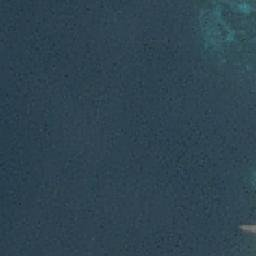debris: (199, 8, 234, 41), (235, 4, 254, 15), (238, 223, 256, 232)
